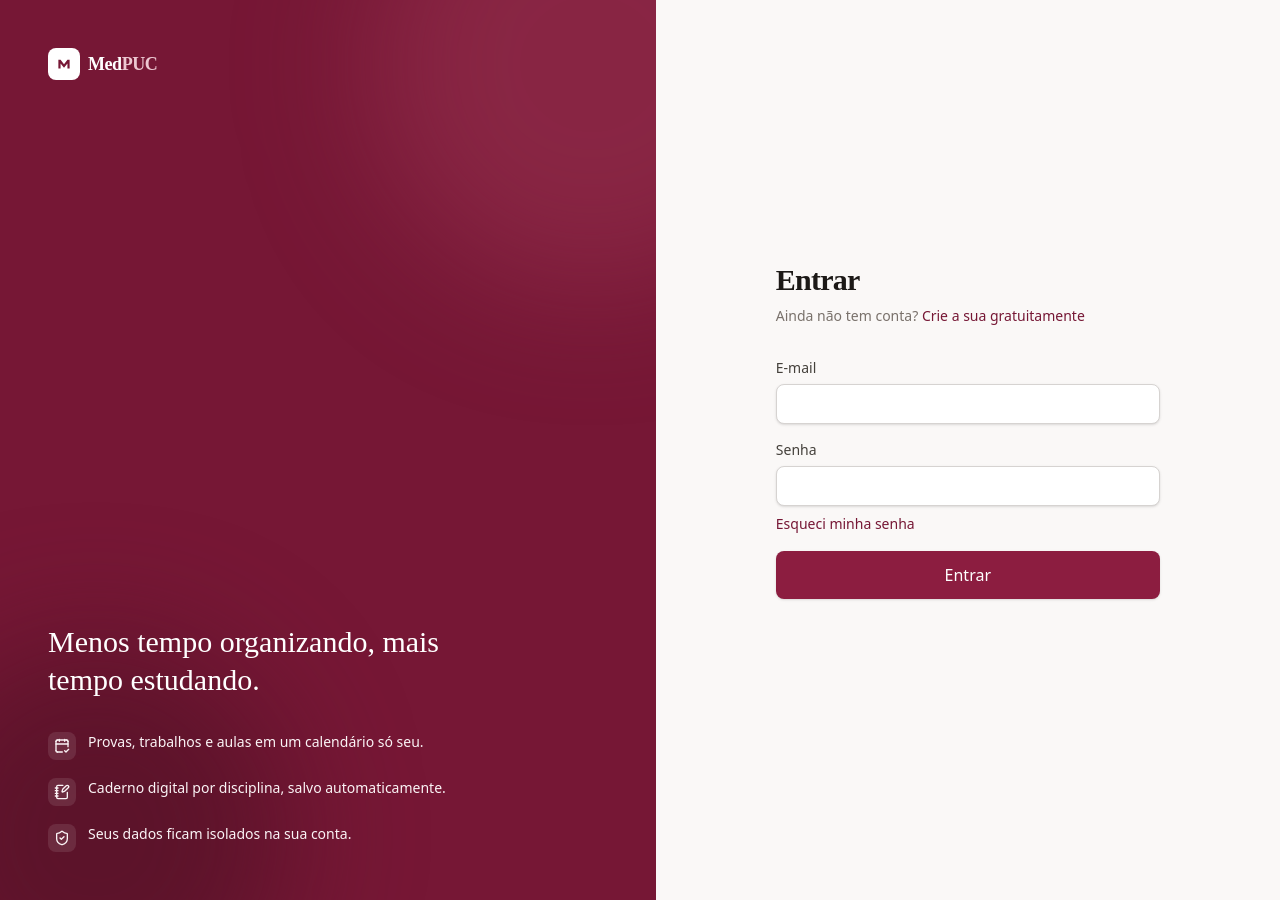
Test: login › mostra o erro traduzido
The width and height of the screenshot is (1280, 900).
Type "ana@pucpr.edu.br" into the field labelled "E-mail".
click(968, 404); type("ana@pucpr.edu.br")  # box [776, 384, 1160, 424]
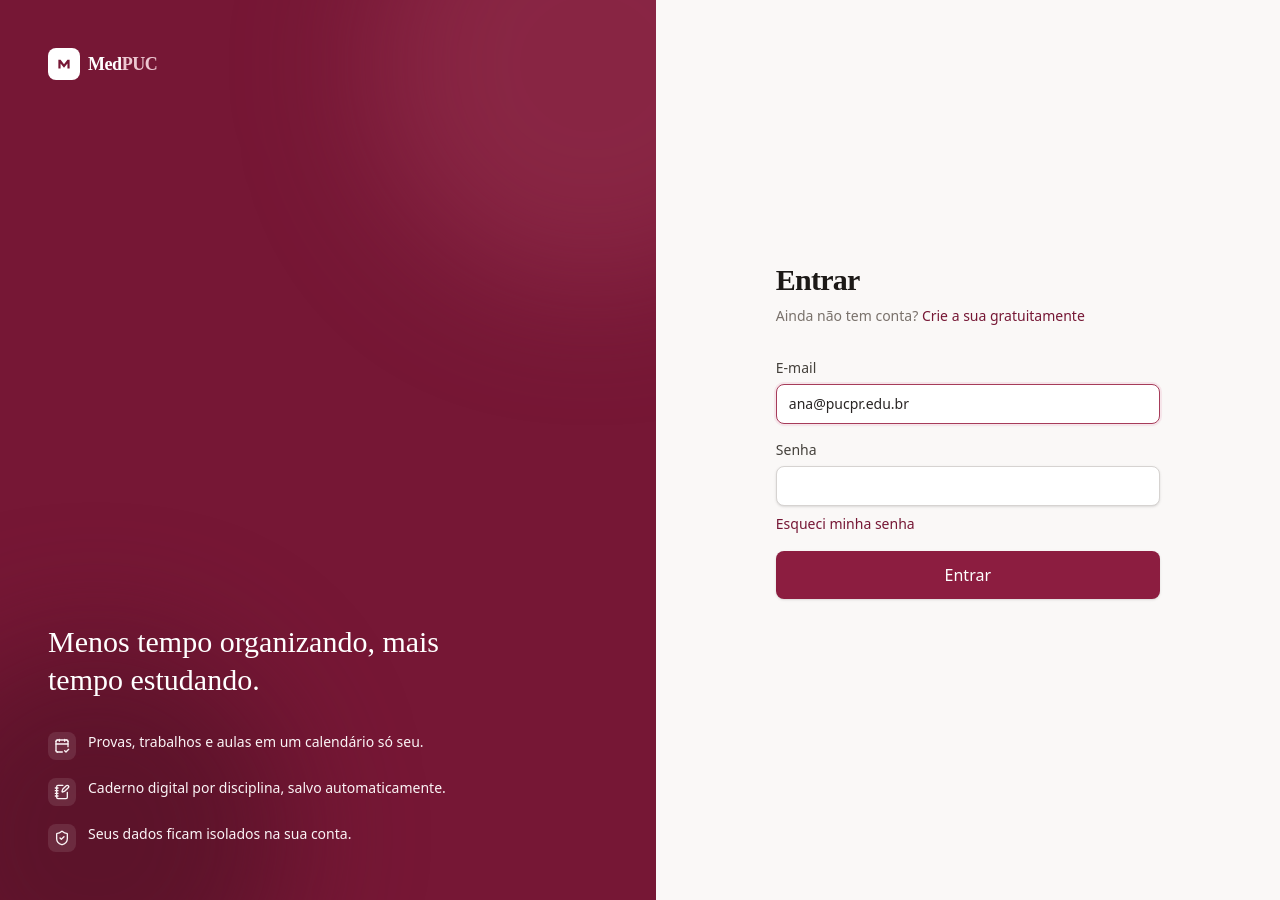
Type "errada123" into the password field labelled "Senha".
click(968, 486); type("errada123")  # box [776, 466, 1160, 506]
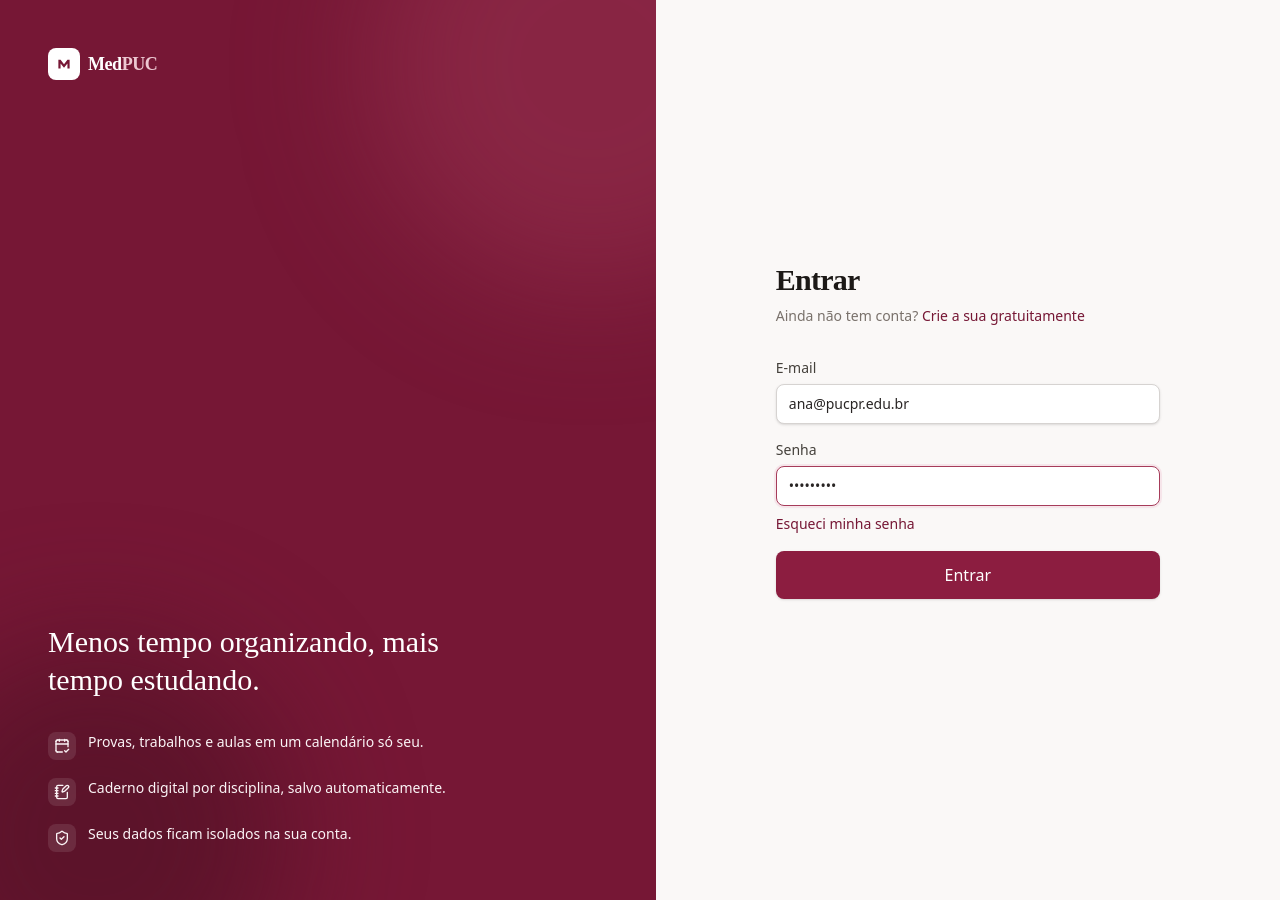
Click the button "Entrar".
click(968, 574)  # box [776, 550, 1160, 598]
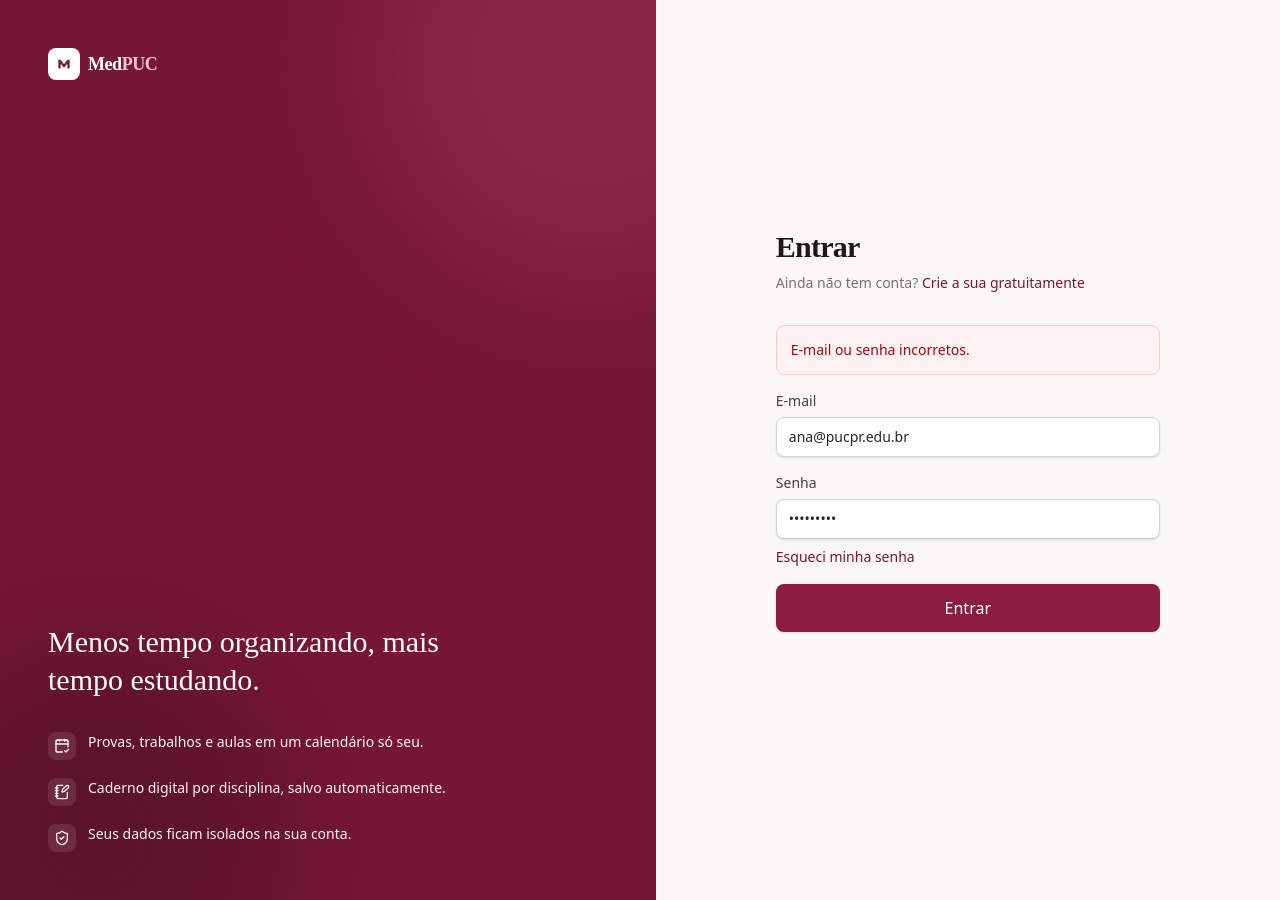
Now the message reads "E-mail ou senha incorretos.", box [791, 340, 970, 358]
